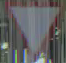Give way: (6, 3, 61, 51)
